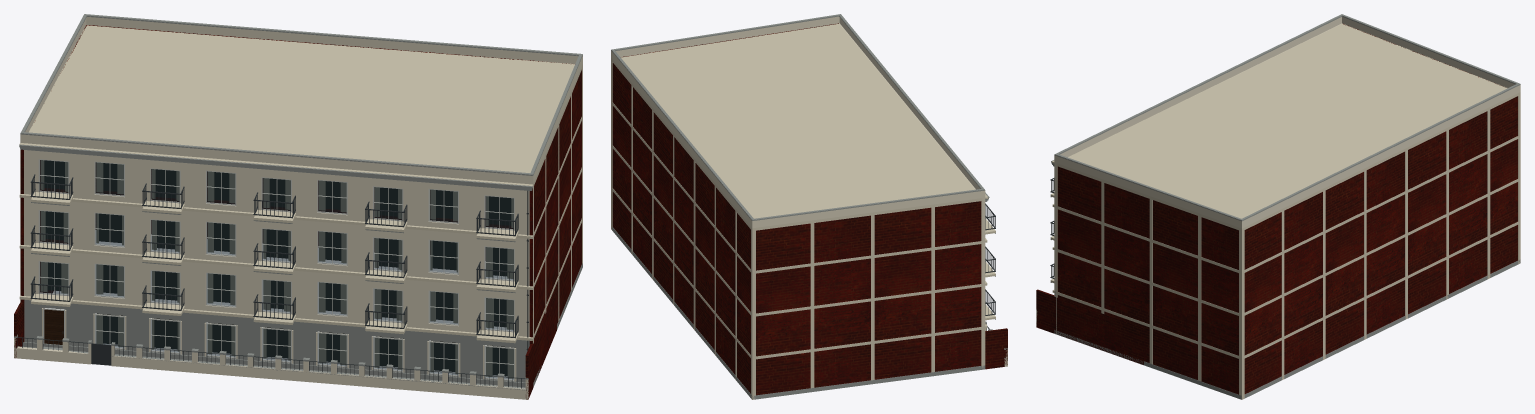
File: building.glb
3 renders of one model, left to right at view 1: azimuth 30°, elevation 25°; view 2: azimuth 150°, elevation 25°; view 3: azimuth 270°, elevation 25°, orthographic. The views are drawn at different scales.
Parts seen in each view (by area): view 1: roof/main:0/roof_slab#0001, main:0/edge0/z0/main:0/edge0/z0/wall_1_0/core0, main:0/edge0/z0/main:0/edge0/z0/coating_0_0_0/core0, roof/main:0/parapet#0001, main:0/edge1/z0/main:0/edge1/z0/wall_0_0, site/fence/0/boundary_base#0002, roof/main:0/parapet_cap#0002, main:0/edge0/z0/plinth#0001, roof/main:0/parapet_cap#0001, site/fence/1/wall#0001, main:0/edge0/z0/floor_slab#0003, main:0/edge0/z0/floor_slab#0002 (+56 smaller); view 2: roof/main:0/roof_slab#0001, main:0/edge3/z0/main:0/edge3/z0/wall_0_0, main:0/edge2/z0/main:0/edge2/z0/wall_0_0, roof/main:0/parapet#0001, roof/main:0/parapet_cap#0002, roof/main:0/parapet_cap#0001, main:0/edge3/z0/plinth#0001, site/fence/2/wall#0001, main:0/edge3/z0/main:0/edge3/z0/beam_0_0, main:0/edge3/z0/main:0/edge3/z0/beam_1_0, main:0/edge3/z0/main:0/edge3/z0/beam_2_0, main:0/edge3/z0/main:0/edge3/z0/beam_3_0 (+6 smaller); view 3: main:0/edge2/z0/main:0/edge2/z0/wall_0_0, roof/main:0/roof_slab#0001, main:0/edge1/z0/main:0/edge1/z0/wall_0_0, roof/main:0/parapet#0001, site/fence/1/wall#0001, roof/main:0/parapet_cap#0002, roof/main:0/parapet_cap#0001, main:0/edge2/z0/plinth#0001, main:0/edge2/z0/main:0/edge2/z0/beam_2_0, main:0/edge2/z0/main:0/edge2/z0/beam_0_0, main:0/edge2/z0/main:0/edge2/z0/beam_1_0, main:0/edge2/z0/main:0/edge2/z0/beam_3_0 (+5 smaller).
Part boxes in pixels (x1=…): roof/main:0/roof_slab#0001: x1=29, y1=25, x2=582, y2=177; main:0/edge0/z0/main:0/edge0/z0/wall_1_0/core0: x1=24, y1=150, x2=529, y2=336; main:0/edge0/z0/main:0/edge0/z0/coating_0_0_0/core0: x1=24, y1=299, x2=529, y2=382; roof/main:0/parapet#0001: x1=20, y1=17, x2=582, y2=184; main:0/edge1/z0/main:0/edge1/z0/wall_0_0: x1=529, y1=70, x2=581, y2=344; site/fence/0/boundary_base#0002: x1=111, y1=355, x2=528, y2=399; roof/main:0/parapet_cap#0002: x1=21, y1=14, x2=582, y2=174; main:0/edge0/z0/plinth#0001: x1=23, y1=342, x2=525, y2=387; roof/main:0/parapet_cap#0001: x1=20, y1=16, x2=582, y2=175; site/fence/1/wall#0001: x1=525, y1=286, x2=556, y2=399; main:0/edge0/z0/floor_slab#0003: x1=19, y1=194, x2=533, y2=238; main:0/edge0/z0/floor_slab#0002: x1=19, y1=244, x2=533, y2=289; roof/main:0/roof_slab#0001: x1=611, y1=23, x2=979, y2=229; main:0/edge3/z0/main:0/edge3/z0/wall_0_0: x1=756, y1=201, x2=981, y2=395; main:0/edge2/z0/main:0/edge2/z0/wall_0_0: x1=612, y1=63, x2=750, y2=393; roof/main:0/parapet#0001: x1=611, y1=16, x2=985, y2=228; roof/main:0/parapet_cap#0002: x1=611, y1=14, x2=984, y2=220; roof/main:0/parapet_cap#0001: x1=611, y1=15, x2=985, y2=220; main:0/edge3/z0/plinth#0001: x1=752, y1=365, x2=984, y2=399; site/fence/2/wall#0001: x1=985, y1=328, x2=1007, y2=369; main:0/edge3/z0/main:0/edge3/z0/beam_0_0: x1=752, y1=326, x2=984, y2=359; main:0/edge3/z0/main:0/edge3/z0/beam_1_0: x1=752, y1=284, x2=982, y2=316; main:0/edge3/z0/main:0/edge3/z0/beam_2_0: x1=752, y1=241, x2=982, y2=273; main:0/edge3/z0/main:0/edge3/z0/beam_3_0: x1=752, y1=198, x2=982, y2=230; main:0/edge2/z0/main:0/edge2/z0/wall_0_0: x1=1244, y1=96, x2=1517, y2=393; roof/main:0/roof_slab#0001: x1=1056, y1=24, x2=1520, y2=230; main:0/edge1/z0/main:0/edge1/z0/wall_0_0: x1=1057, y1=166, x2=1238, y2=394; roof/main:0/parapet#0001: x1=1054, y1=16, x2=1520, y2=228; site/fence/1/wall#0001: x1=1036, y1=289, x2=1143, y2=364; roof/main:0/parapet_cap#0002: x1=1055, y1=14, x2=1519, y2=220; roof/main:0/parapet_cap#0001: x1=1054, y1=16, x2=1520, y2=221; main:0/edge2/z0/plinth#0001: x1=1242, y1=259, x2=1520, y2=398; main:0/edge2/z0/main:0/edge2/z0/beam_2_0: x1=1242, y1=135, x2=1520, y2=273; main:0/edge2/z0/main:0/edge2/z0/beam_0_0: x1=1242, y1=220, x2=1520, y2=359; main:0/edge2/z0/main:0/edge2/z0/beam_1_0: x1=1242, y1=178, x2=1520, y2=316; main:0/edge2/z0/main:0/edge2/z0/beam_3_0: x1=1242, y1=92, x2=1520, y2=231.
Size of the model in its own units: 32.04 by 12.69 by 30.75.
Materials: 10 (2 with a texture image).
